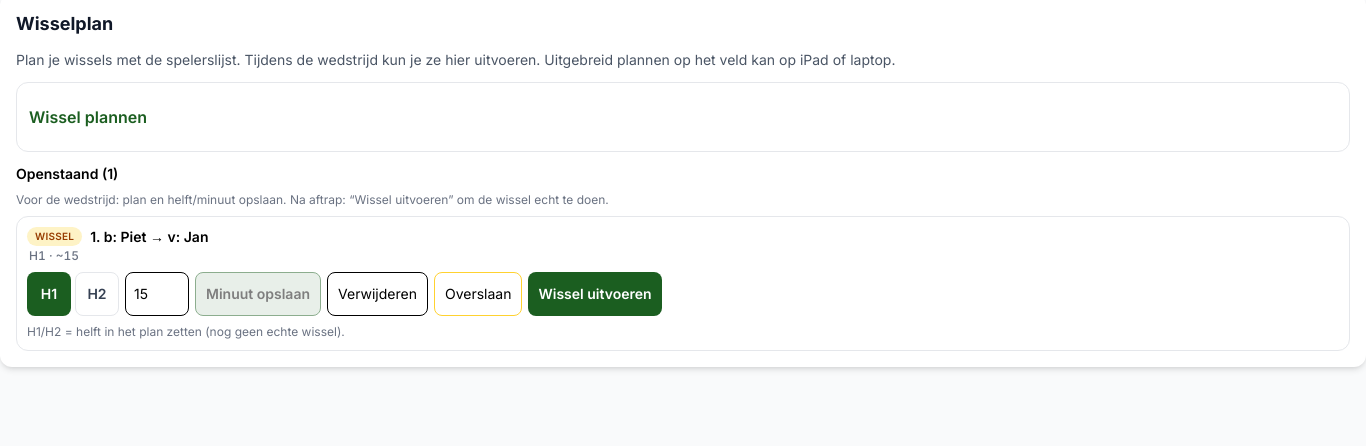
it: restored coach wisselplan › keeps a failed swap visible and lets the coach retry
Step 1. Click the button "Wissel uitvoeren" → x=595, y=294, box top-left (528, 272), bottom-right (662, 316)
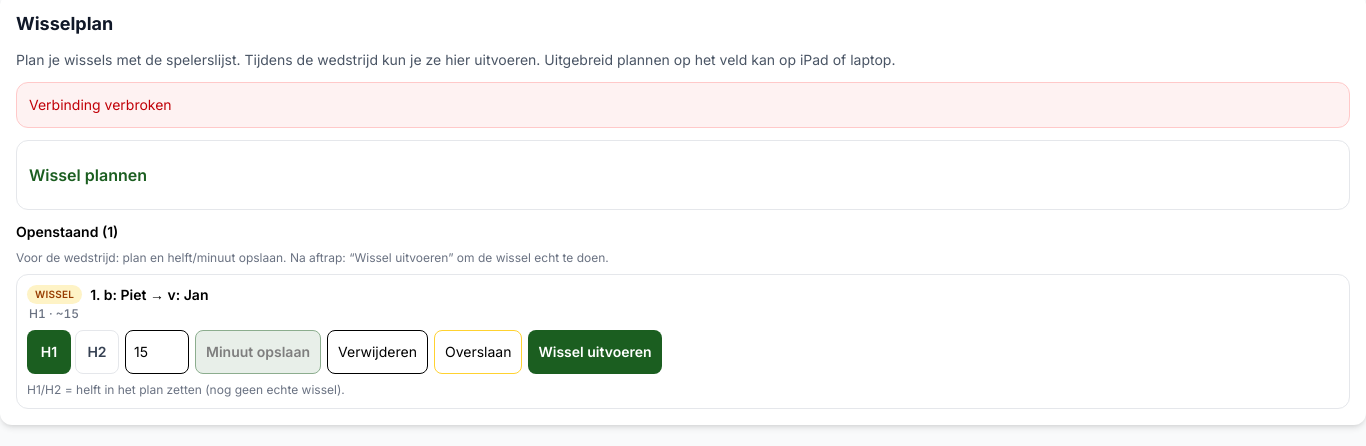
Expected: the text "Openstaand (1)" is shown, top-left (16, 223), bottom-right (118, 240)
Result: the text "Verbinding verbroken" is shown at top-left (16, 82), bottom-right (1350, 128)
